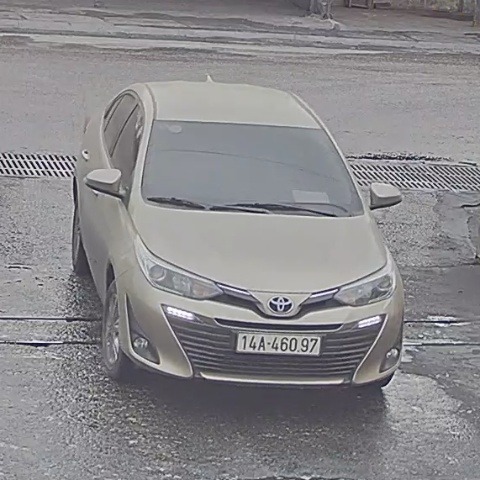vehicle plate: (230, 327, 326, 360)
